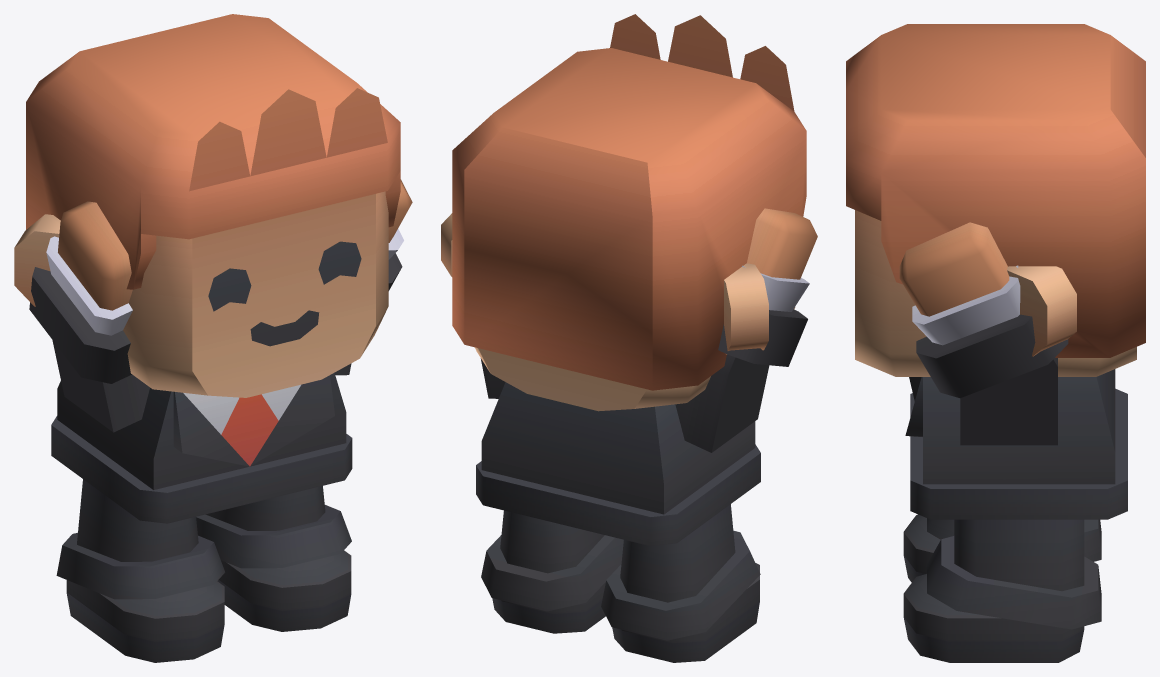
The model's file is people-male-d-idle.glb.
3 views of the same model, side by side, from view 1: azimuth 30°, elevation 25°; view 2: azimuth 150°, elevation 25°; view 3: azimuth 270°, elevation 25° (orthographic). The views are drawn at different scales.
Visible parts, largest first — view 1: character-male-d-idle; view 2: character-male-d-idle; view 3: character-male-d-idle.
Part boxes in pixels (<box>): character-male-d-idle: <box>14,14,412,662</box>; character-male-d-idle: <box>441,14,817,662</box>; character-male-d-idle: <box>846,24,1145,662</box>.
Size of the model in its own units: 0.4535 by 0.7218 by 0.34.
1 material, 1 textured.
